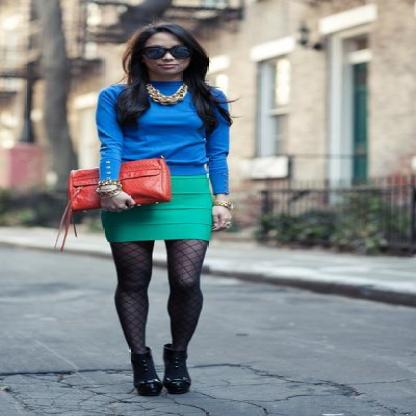bag: (68, 158, 170, 216)
jacket: (96, 84, 234, 191)
shoe: (134, 376, 190, 396)
skirt: (101, 175, 211, 249)
